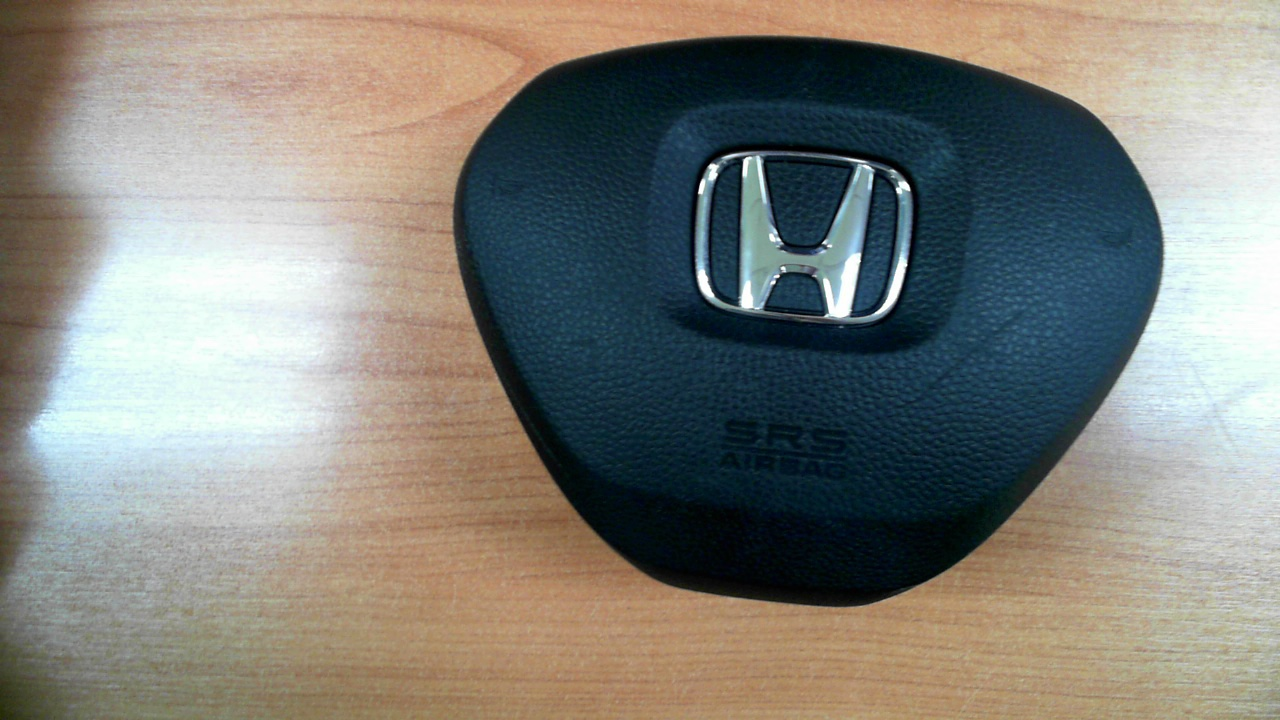Airbag: (452, 35, 1166, 608)
Honda: (694, 150, 913, 325)
